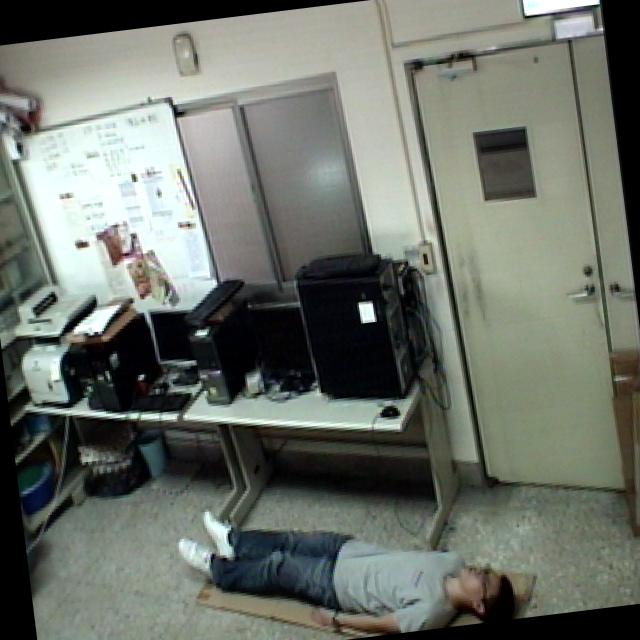lie: (173, 461, 522, 640)
